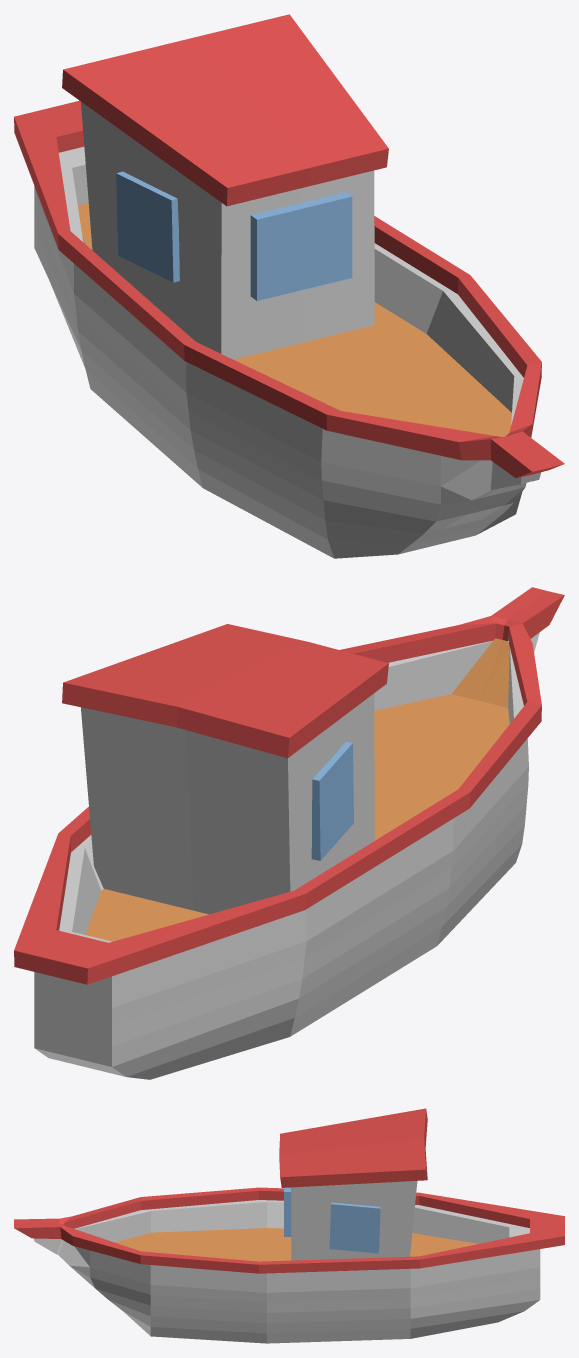
File: Boat.glb
3 renders of one model, top to bottom at view 1: azimuth 30°, elevation 25°; view 2: azimuth 150°, elevation 25°; view 3: azimuth 270°, elevation 25°, orthographic. The views are drawn at different scales.
Visible parts, largest first — view 1: Cube; view 2: Cube; view 3: Cube.
Boxes of the visible parts, x1,y1,x2,y2 form: Cube: (14,14,564,558); Cube: (14,587,564,1079); Cube: (14,1108,564,1343).
Size of the model in its own units: 7.36 by 7.73 by 22.18.
